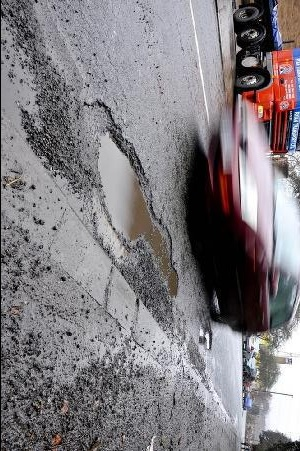pothole: (95, 123, 182, 303), (198, 323, 214, 352)
